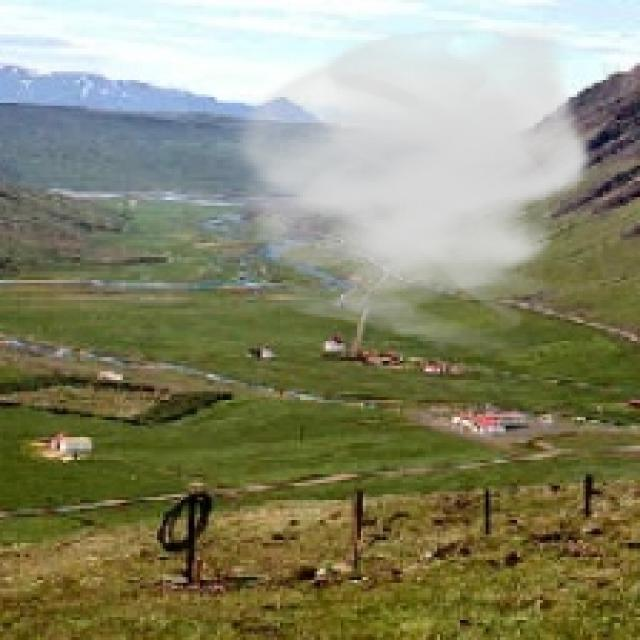Smoke: (222, 17, 594, 360)
